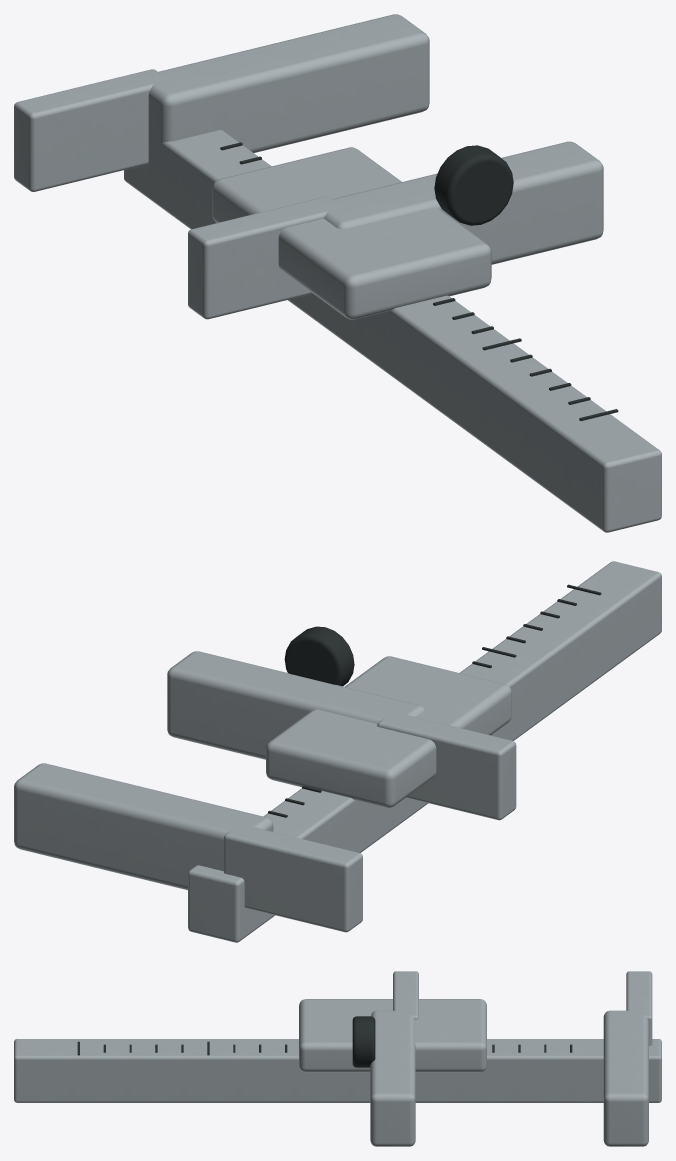
The model's file is vernier-caliper.glb.
3 renders of one model, top to bottom at view 1: azimuth 30°, elevation 25°; view 2: azimuth 150°, elevation 25°; view 3: azimuth 270°, elevation 25°, orthographic. The views are drawn at different scales.
Parts seen in each view (by area): view 1: Caliper beam, Outside measuring jaw, Sliding scale block, Outside measuring jaw.001, Inside measuring point, Inside measuring point.001, Slider thumb wheel; view 2: Caliper beam, Outside measuring jaw, Sliding scale block, Outside measuring jaw.001, Inside measuring point, Inside measuring point.001, Slider thumb wheel; view 3: Caliper beam, Sliding scale block, Outside measuring jaw, Outside measuring jaw.001, Inside measuring point, Slider thumb wheel, Inside measuring point.001.
Part boxes in pixels (bbox=[...]): Caliper beam: bbox=[124, 130, 661, 532]; Outside measuring jaw: bbox=[148, 14, 429, 163]; Sliding scale block: bbox=[212, 147, 491, 319]; Outside measuring jaw.001: bbox=[324, 141, 603, 264]; Inside measuring point: bbox=[14, 69, 166, 191]; Inside measuring point.001: bbox=[188, 196, 340, 319]; Slider thumb wheel: bbox=[434, 145, 513, 225]; Caliper beam: bbox=[188, 561, 661, 942]; Outside measuring jaw: bbox=[14, 763, 273, 890]; Sliding scale block: bbox=[266, 656, 511, 807]; Outside measuring jaw.001: bbox=[167, 651, 424, 759]; Inside measuring point: bbox=[224, 826, 362, 932]; Inside measuring point.001: bbox=[377, 712, 516, 820]; Slider thumb wheel: bbox=[284, 626, 354, 686]; Caliper beam: bbox=[14, 1039, 661, 1102]; Sliding scale block: bbox=[299, 999, 486, 1072]; Outside measuring jaw: bbox=[603, 1010, 648, 1146]; Outside measuring jaw.001: bbox=[370, 1010, 415, 1146]; Inside measuring point: bbox=[626, 971, 652, 1045]; Slider thumb wheel: bbox=[352, 1016, 375, 1067]; Inside measuring point.001: bbox=[393, 971, 418, 1019].
Bounding box in the file's own units: 0.092 × 0.037 × 0.2.
Materials: 2 (2 with a texture image).
